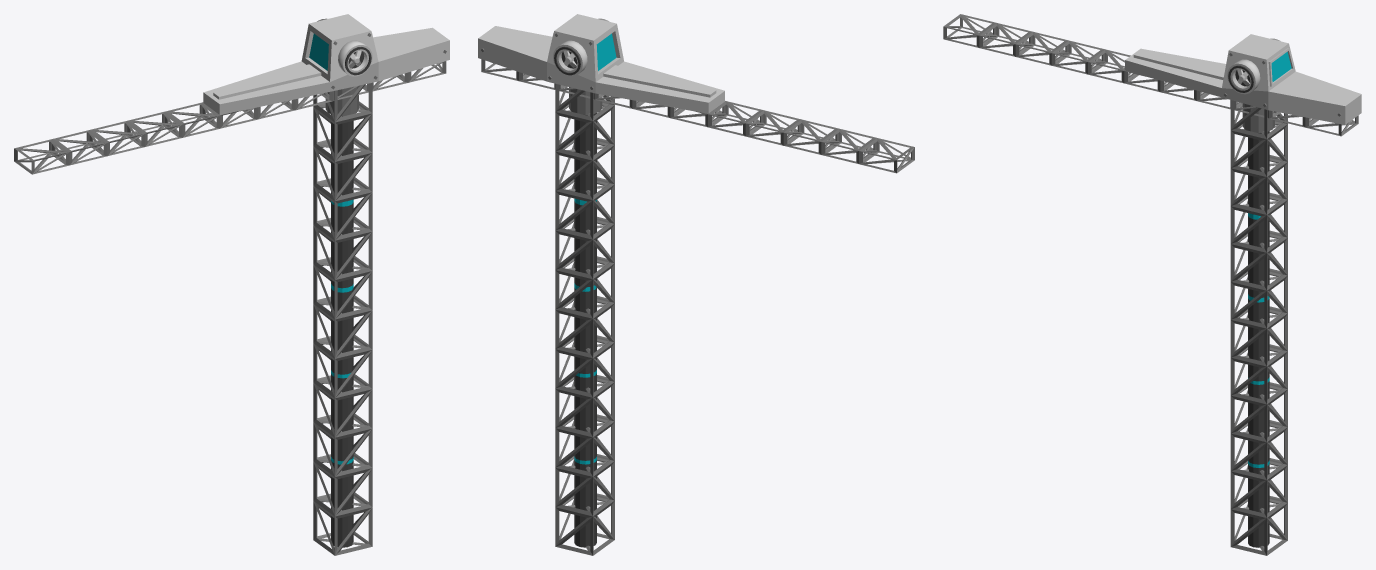
File: Factory_Structure_2.fbx
3 views of the same model, side by side, from view 1: azimuth 30°, elevation 25°; view 2: azimuth 150°, elevation 25°; view 3: azimuth 330°, elevation 25° (orthographic). The views are drawn at different scales.
Visible parts, largest first — view 1: Factory Structure 2; view 2: Factory Structure 2; view 3: Factory Structure 2.
Boxes of the visible parts, x1=… form: Factory Structure 2: x1=14, y1=14, x2=449, y2=555; Factory Structure 2: x1=478, y1=14, x2=914, y2=555; Factory Structure 2: x1=943, y1=14, x2=1361, y2=555.
Bounding box in the file's own units: 4246 × 5005 × 655.
